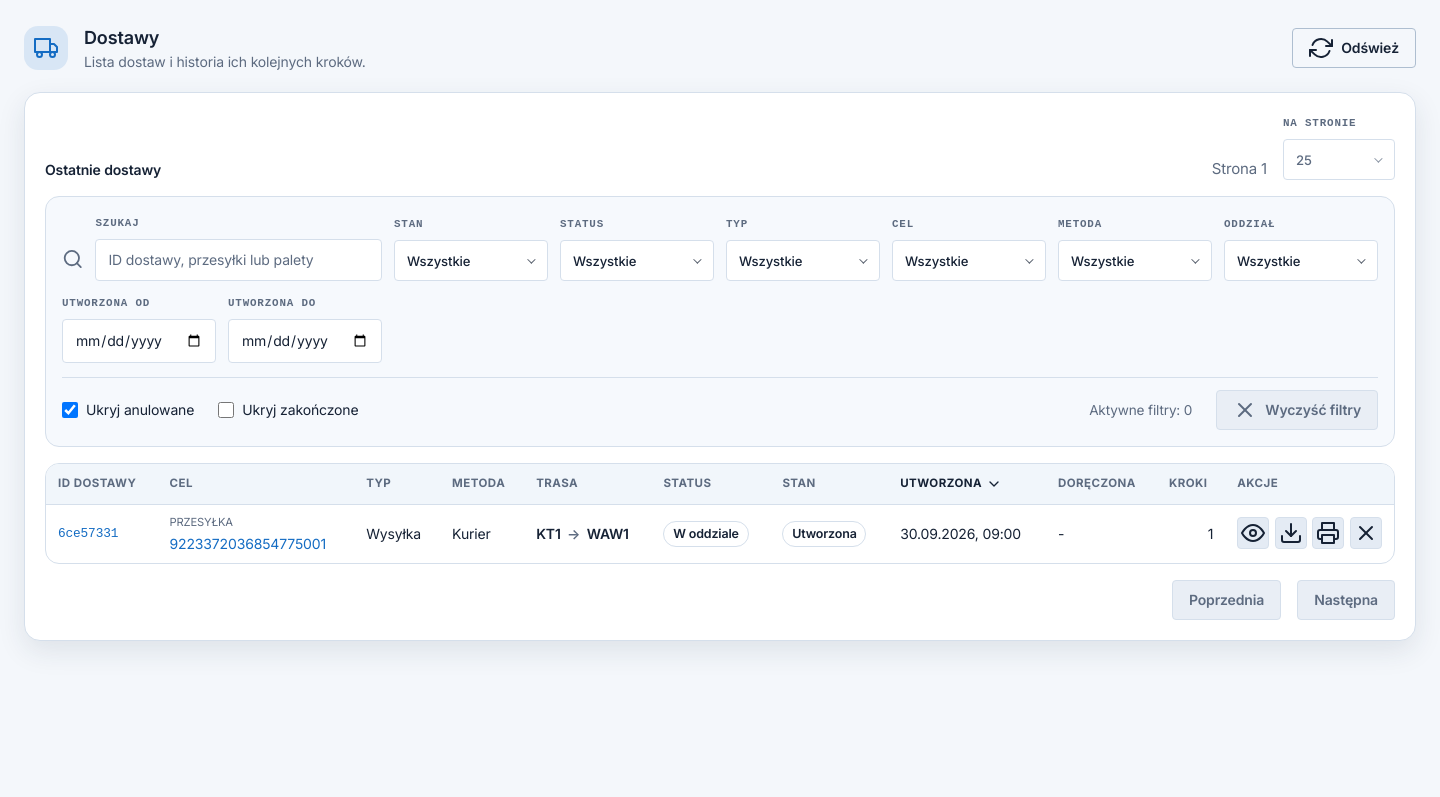
Test: Deliveries › assigns a courier with the courier vehicle
The image size is (1440, 797).
Check: the link "9223372036854775001" is shown, box [170,533,342,554]
Click the button named "Edytuj 6ce57331-8ef7-4a81-bf0f-14baa23231ad" at point(1253, 533), box [1237,517,1269,549]
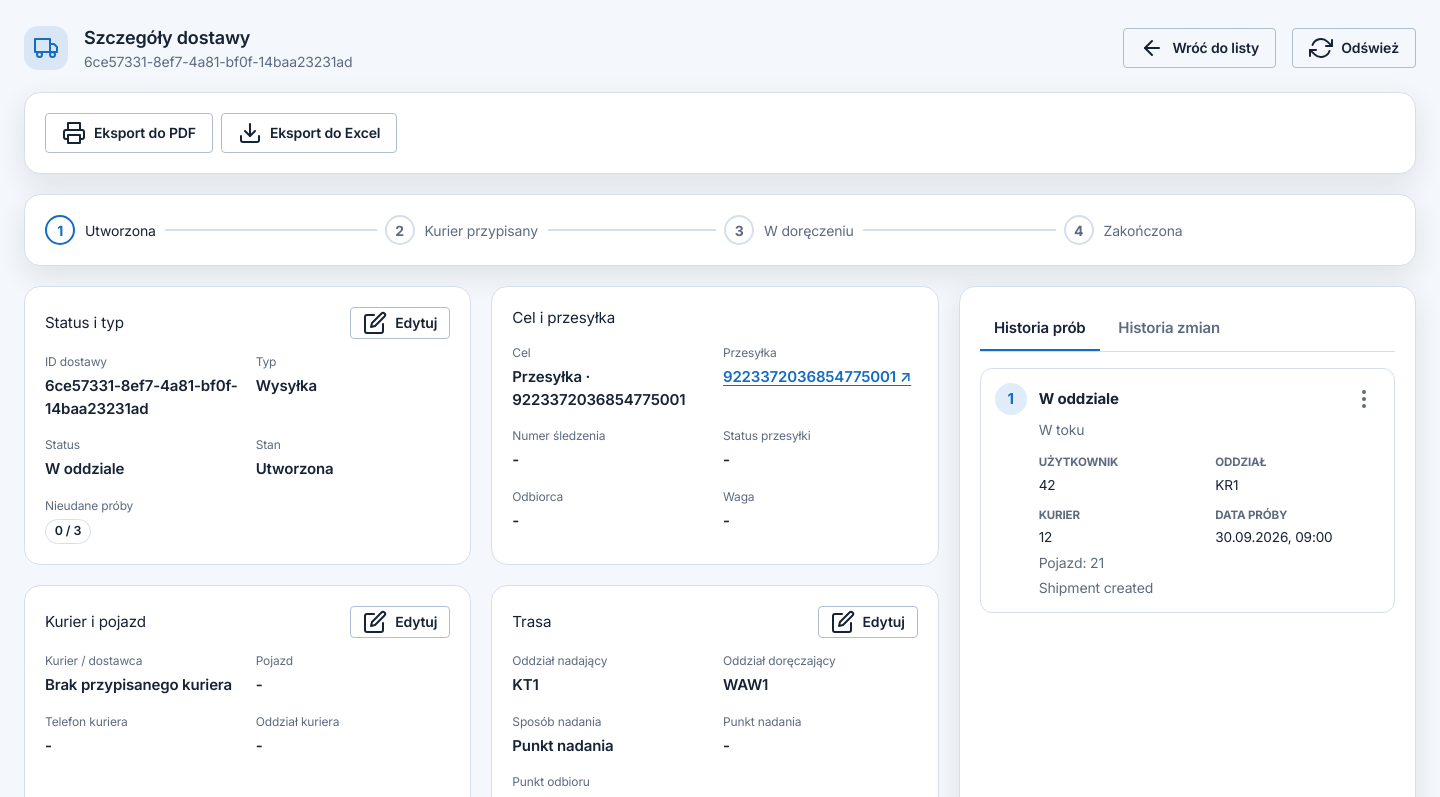
Check: the element named "Operacje na dostawie" is shown, box [24,92,1416,174]
Click the button "Edytuj" in the row of "Kurier i pojazd" at point(400, 622), box [350,606,450,638]
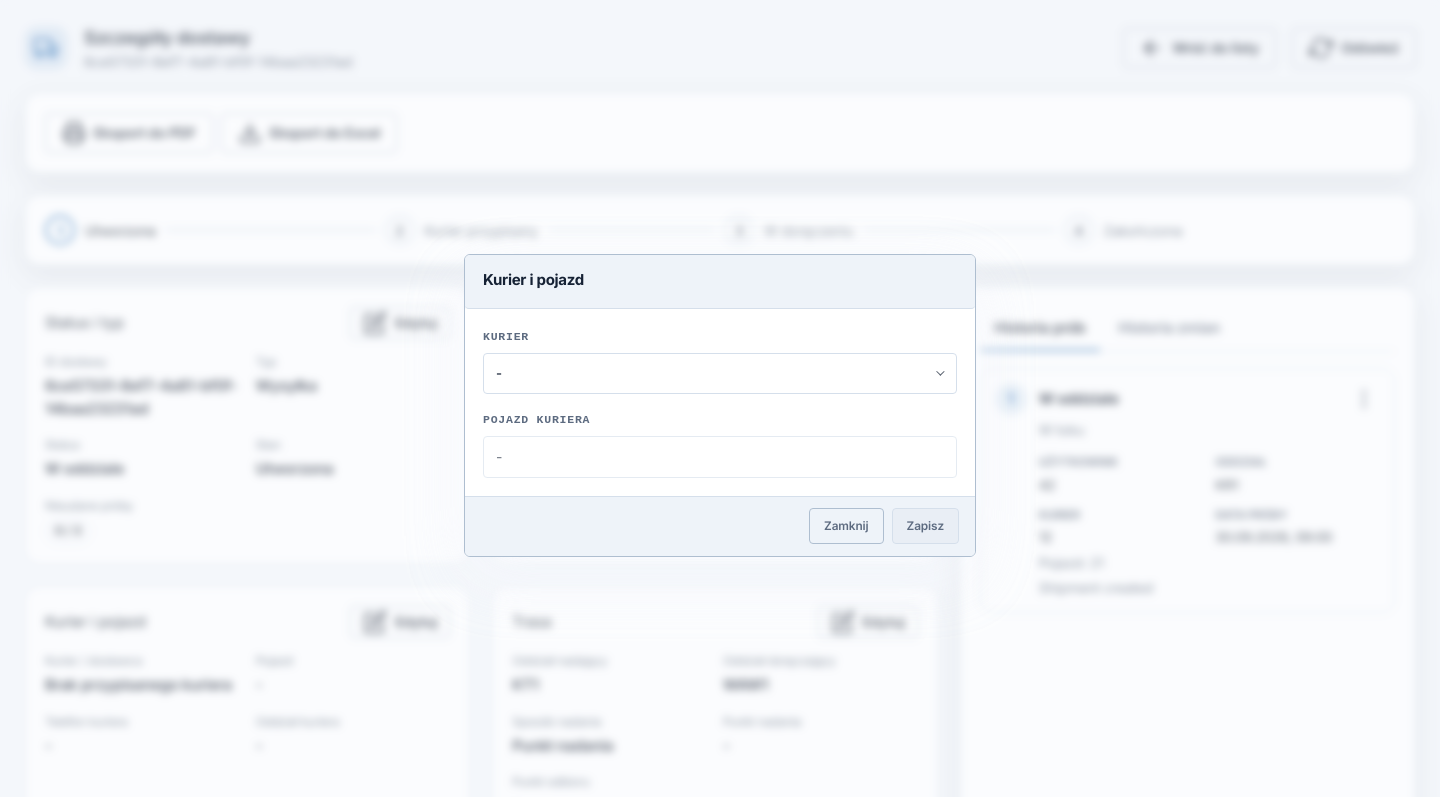
Press the mouse on the dropdown named "Kurier" at point(499, 373), box [484,354,956,392]
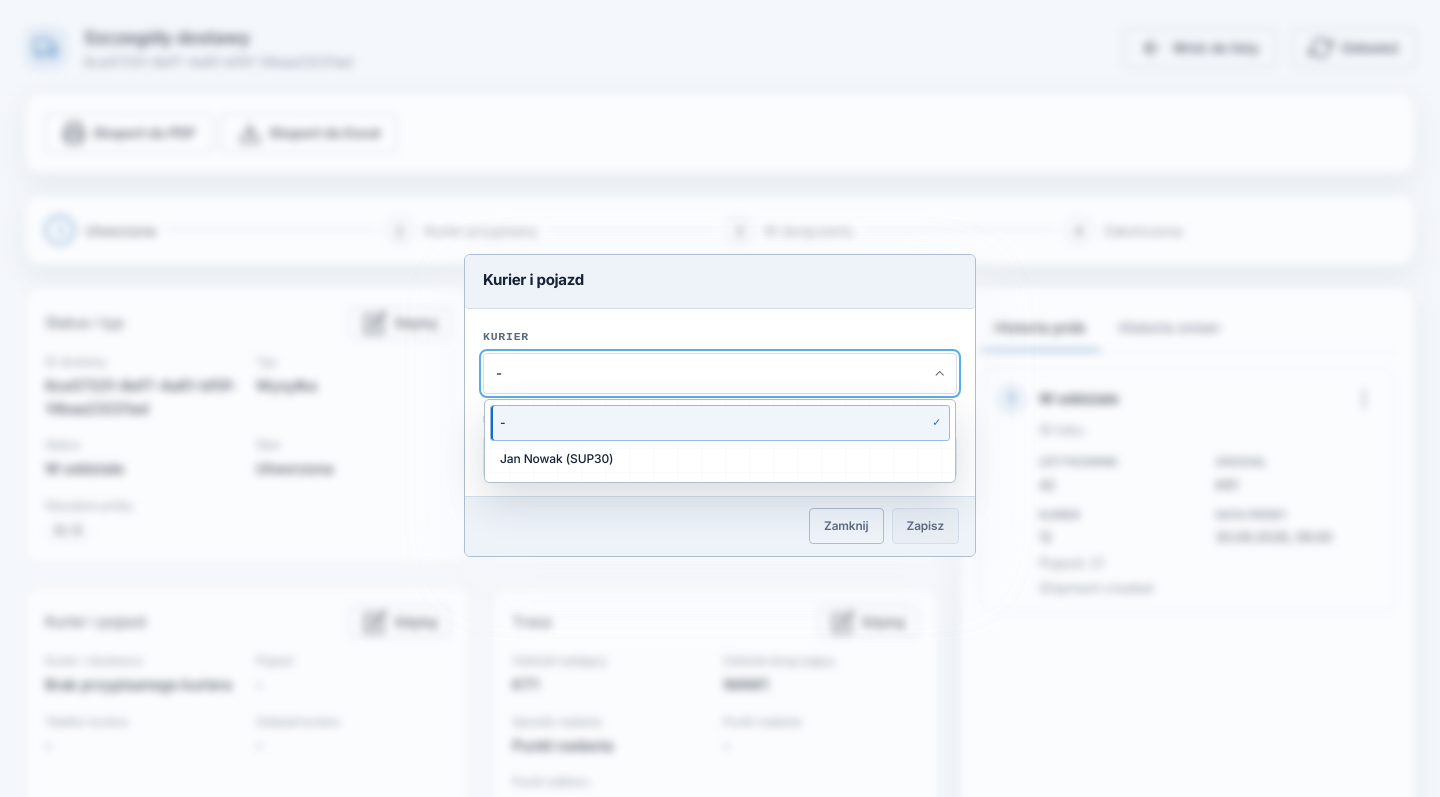
Click the option "Jan Nowak (SUP30)" at point(557, 458), box [490,440,950,476]
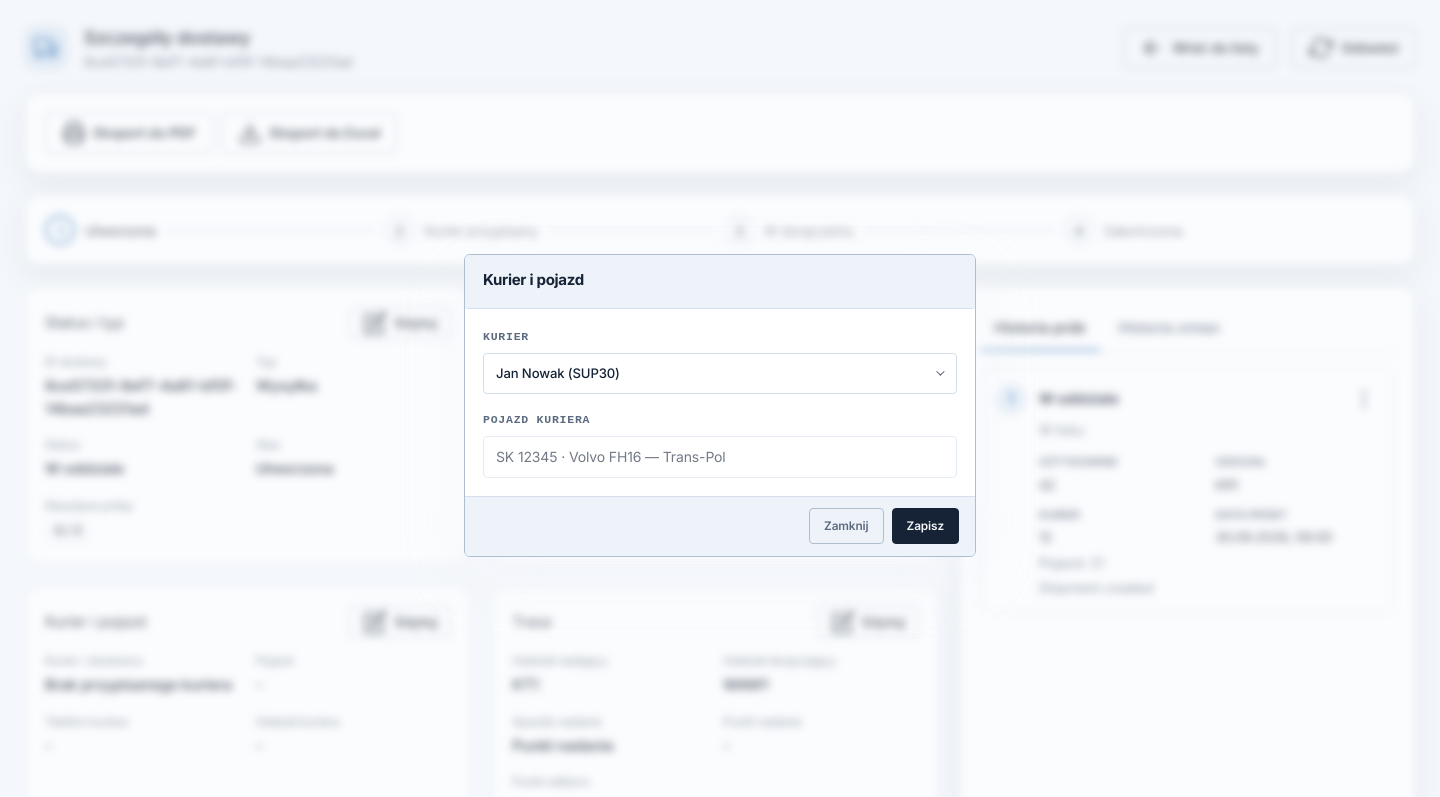
Check: the field labelled "Pojazd kuriera" is disabled, box [483,436,957,478]
Check: the field labelled "Pojazd kuriera" holds "SK 12345 · Volvo FH16 — Trans-Pol", box [483,436,957,478]
Click the button "Zapisz" at point(925, 526), box [892,508,959,544]
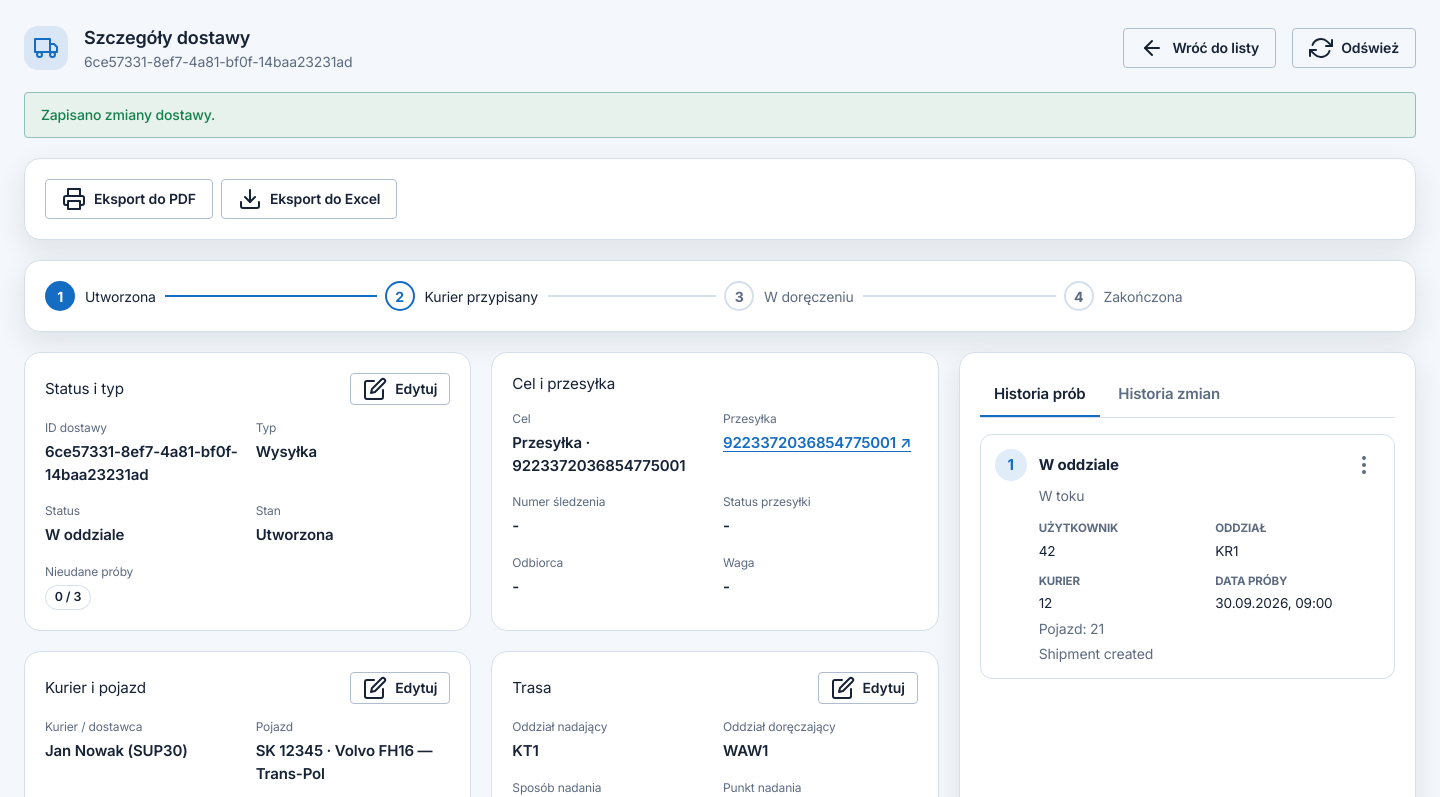
Check: the text "Jan Nowak (SUP30)" is shown, box [45,741,188,760]
